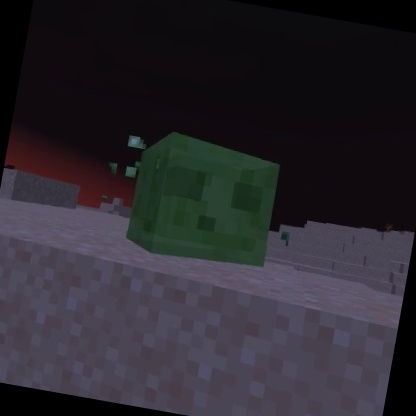slime: (117, 121, 291, 278)
